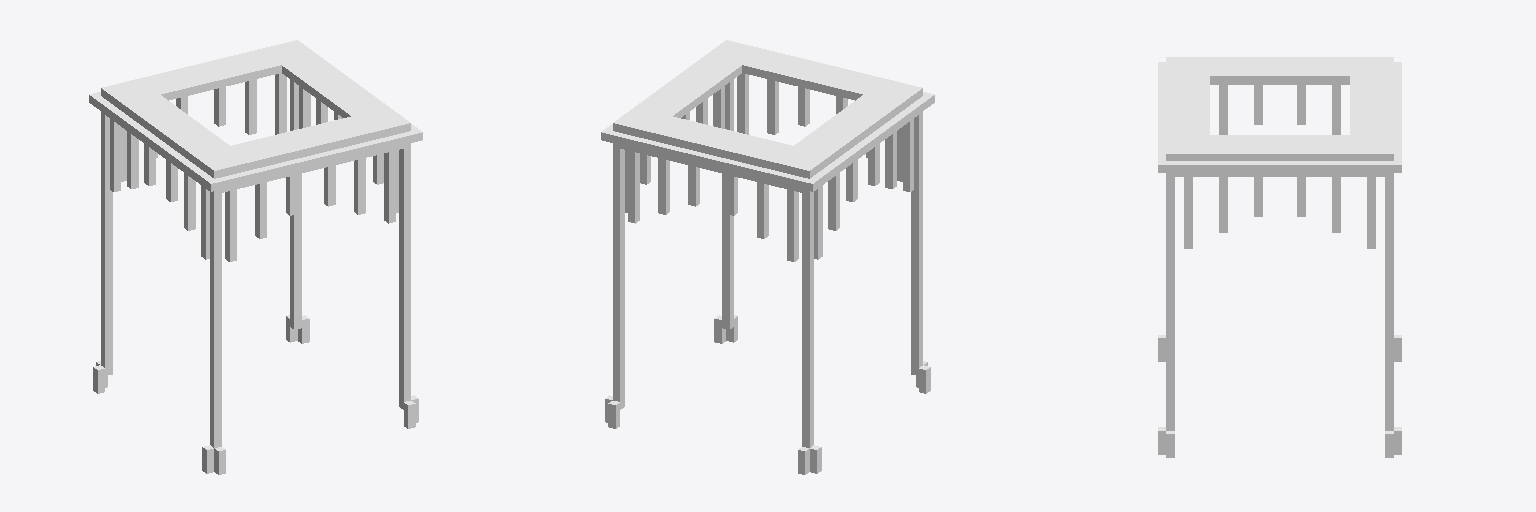
The model's file is TallBuilding02-0.obj.
The picture shows the model from 3 angles: view 1: azimuth 30°, elevation 25°; view 2: azimuth 150°, elevation 25°; view 3: azimuth 270°, elevation 25°; orthographic projection.
Parts seen in each view (by area): view 1: object 1; view 2: object 1; view 3: object 1.
Boxes of the visible parts, <box> form: object 1: <box>89,40,422,474</box>; object 1: <box>601,40,934,474</box>; object 1: <box>1158,57,1401,457</box>.
Bounding box in the file's own units: 2.8 × 3.8 × 2.8.